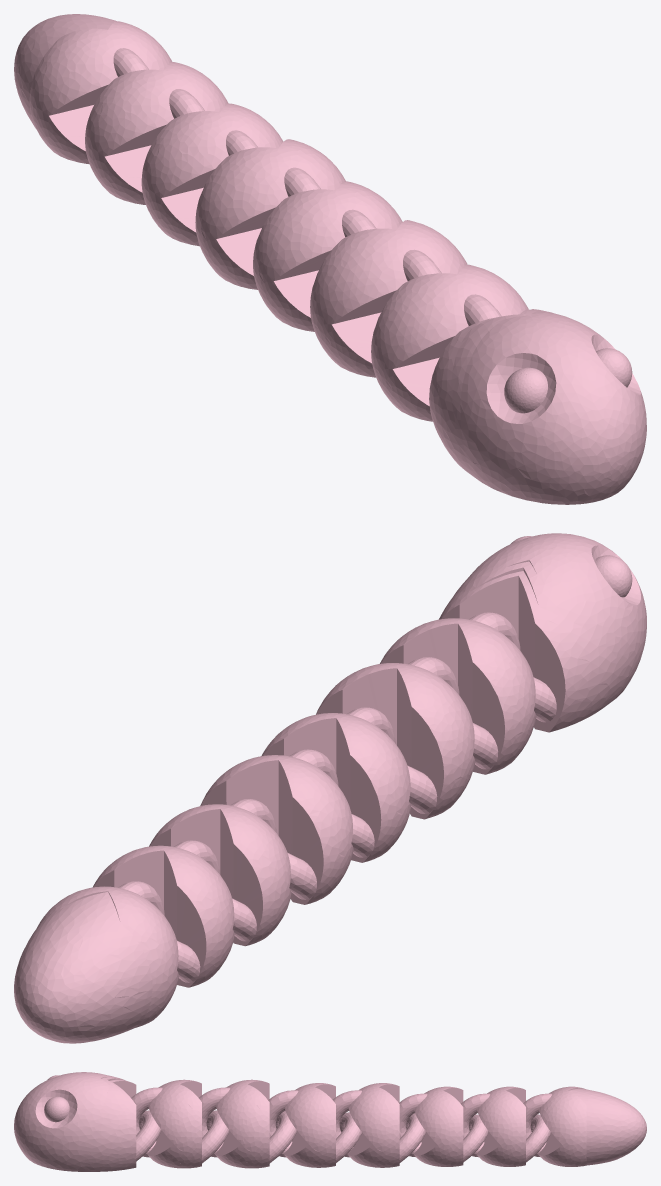
Rendered from serpiente-articulada.glb.
3 renders of one model, top to bottom at view 1: azimuth 30°, elevation 25°; view 2: azimuth 150°, elevation 25°; view 3: azimuth 270°, elevation 25°, orthographic. The views are drawn at different scales.
Visible parts, largest first — view 1: pieza; view 2: pieza; view 3: pieza.
Part boxes in pixels (bbox=[...]): pieza: bbox=[14, 14, 646, 504]; pieza: bbox=[14, 533, 646, 1043]; pieza: bbox=[14, 1072, 646, 1171].
Size of the model in its own units: 0.0102 by 0.00836 by 0.0623.
